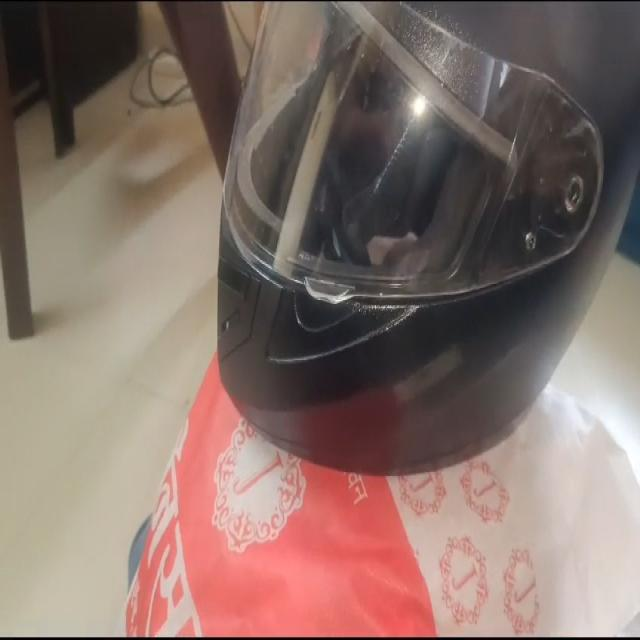Helmet: (219, 1, 640, 474)
